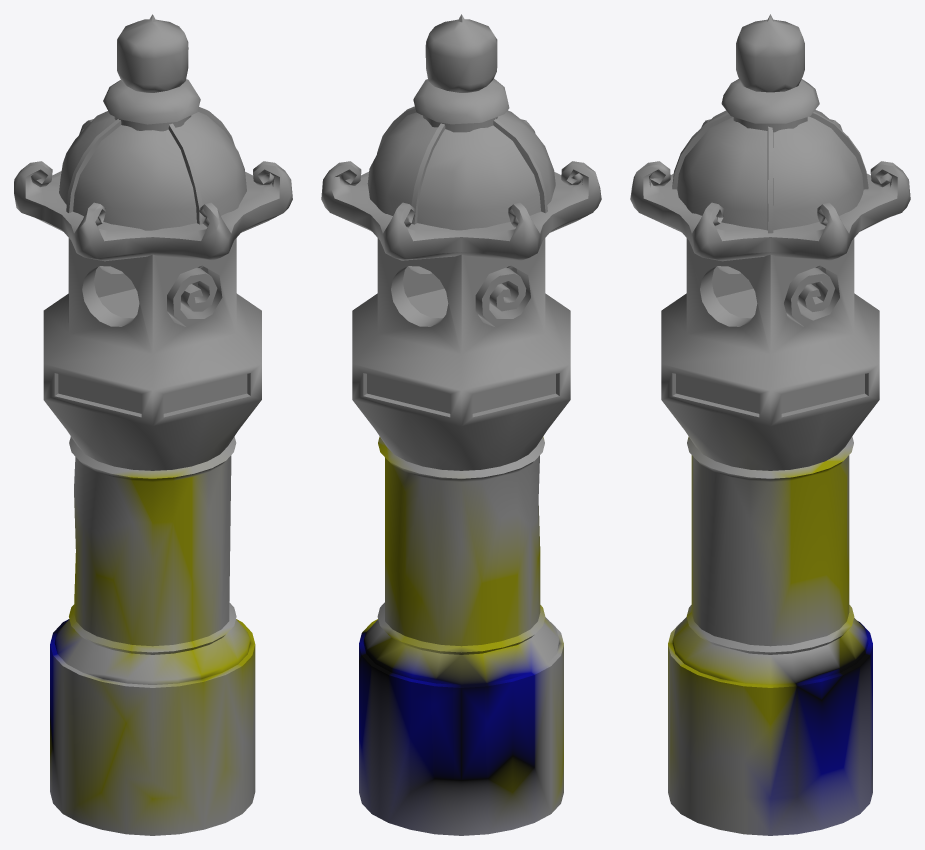
The model's file is SM_ENV_LKNVLD_GardenLantern_A_Lod1.gltf.
The picture shows the model from 3 angles, left to right: view 1: azimuth 30°, elevation 25°; view 2: azimuth 150°, elevation 25°; view 3: azimuth 270°, elevation 25°; orthographic projection.
Parts seen in each view (by area): view 1: SM_ENV_LKNVLD_GardenLantern_A_Lod1; view 2: SM_ENV_LKNVLD_GardenLantern_A_Lod1; view 3: SM_ENV_LKNVLD_GardenLantern_A_Lod1.
Part boxes in pixels (<box>): SM_ENV_LKNVLD_GardenLantern_A_Lod1: <box>14,14,292,835</box>; SM_ENV_LKNVLD_GardenLantern_A_Lod1: <box>321,14,601,835</box>; SM_ENV_LKNVLD_GardenLantern_A_Lod1: <box>630,14,910,835</box>.
Size of the model in its own units: 1.39 by 4.73 by 1.54.
